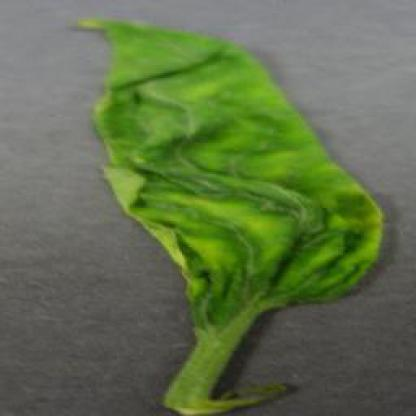bad leaf: (58, 23, 392, 410)
